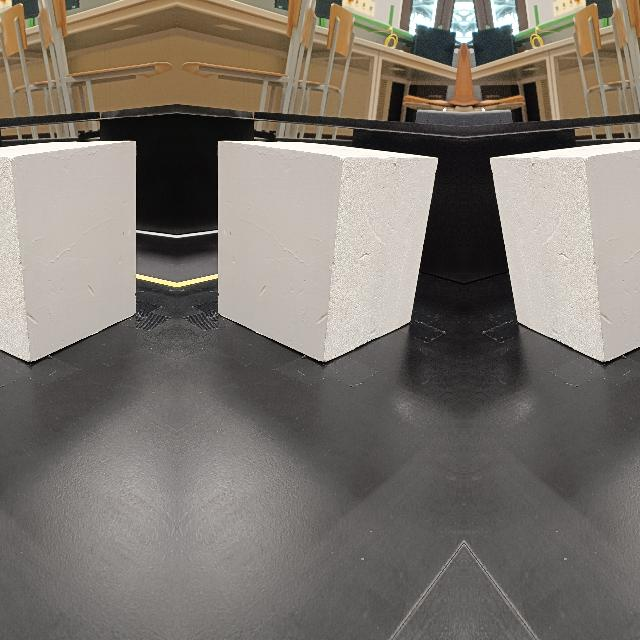obstacle: (217, 138, 438, 366), (489, 138, 640, 365), (0, 138, 134, 365)
